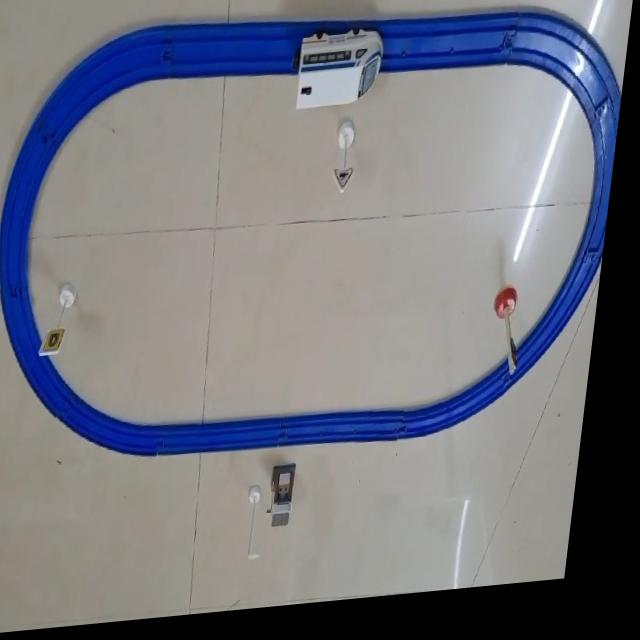bus: (290, 32, 388, 119)
